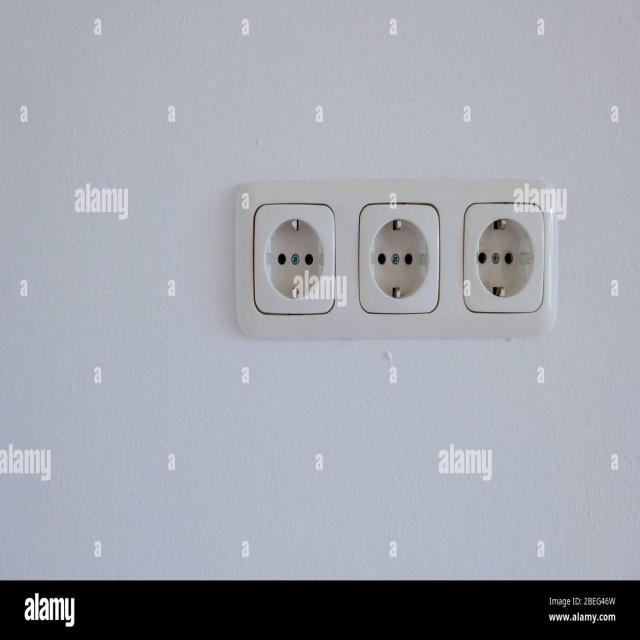typeb: (230, 164, 560, 346)
